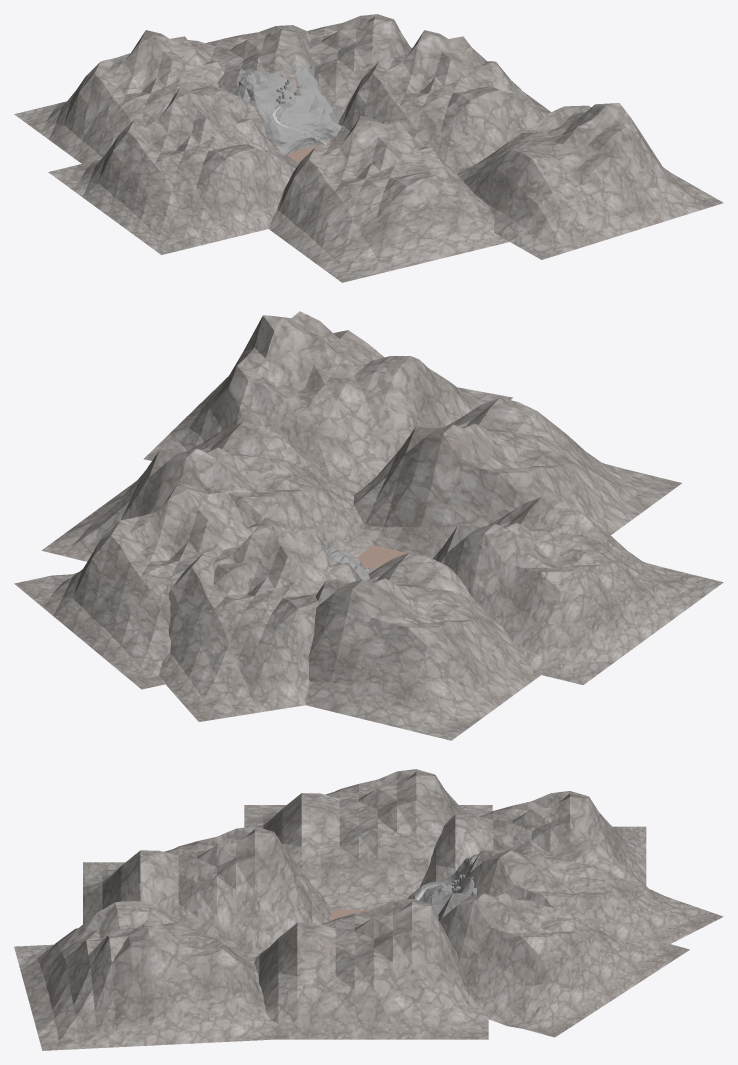
Rendered from terrain.obj.
3 views of the same model, one above another, from view 1: azimuth 30°, elevation 25°; view 2: azimuth 150°, elevation 25°; view 3: azimuth 270°, elevation 25° (orthographic). The views are drawn at different scales.
Visible parts, largest first — view 1: Landscape.003_Landscape.011, Berg_Plane; view 2: Landscape.003_Landscape.011; view 3: Landscape.003_Landscape.011, Berg_Plane.
Part boxes in pixels (x1,y1,x2,y2): Landscape.003_Landscape.011: (14,14,723,282); Berg_Plane: (234,66,341,155); Landscape.003_Landscape.011: (14,311,723,740); Landscape.003_Landscape.011: (14,769,723,1050); Berg_Plane: (407,854,478,914).
Size of the model in its own units: 765 by 143 by 914.
